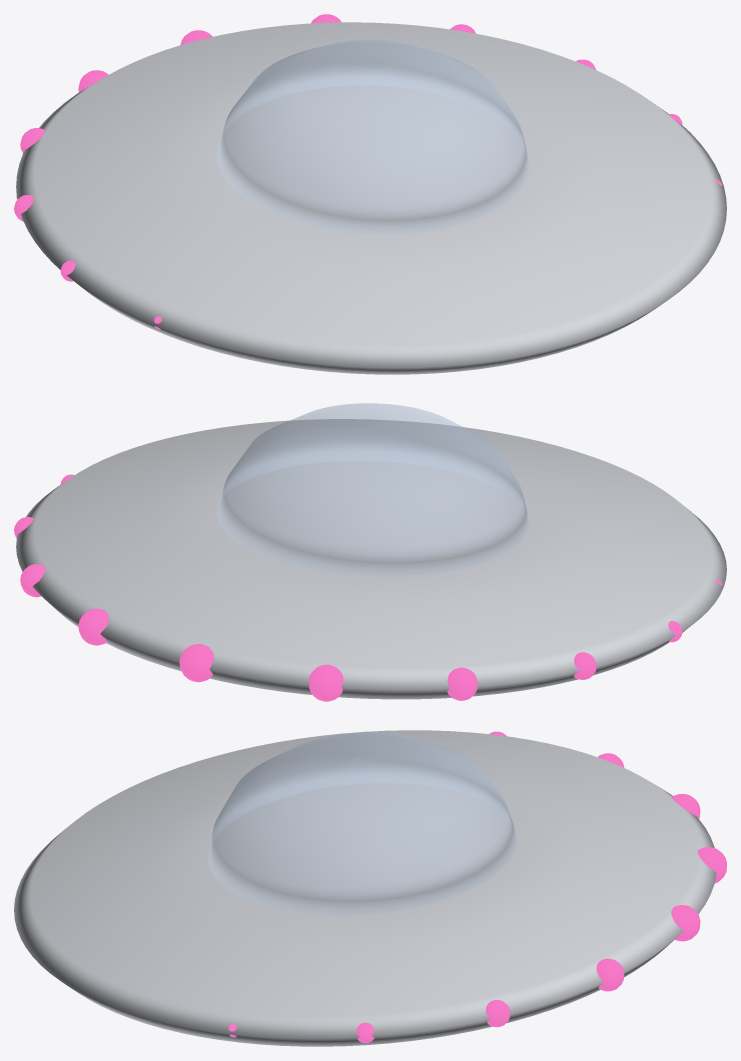
File: domed-disc.glb
3 views of the same model, one above another, from view 1: azimuth 30°, elevation 25°; view 2: azimuth 150°, elevation 25°; view 3: azimuth 270°, elevation 25° (orthographic).
Visible parts, largest first — view 1: hull_mesh, dome_mesh, rim; view 2: hull_mesh, dome_mesh, rim; view 3: hull_mesh, dome_mesh, rim.
Part boxes in pixels (x1,y1,x2,y2): hull_mesh: (16, 22, 726, 374); dome_mesh: (217, 39, 528, 234); rim: (14, 14, 722, 329); hull_mesh: (16, 419, 726, 699); dome_mesh: (217, 403, 528, 575); rim: (14, 474, 722, 701); hull_mesh: (14, 730, 716, 1046); dome_mesh: (208, 732, 516, 915); rim: (228, 731, 726, 1043).
Size of the model in its own units: 14 by 4.1 by 14.09.
